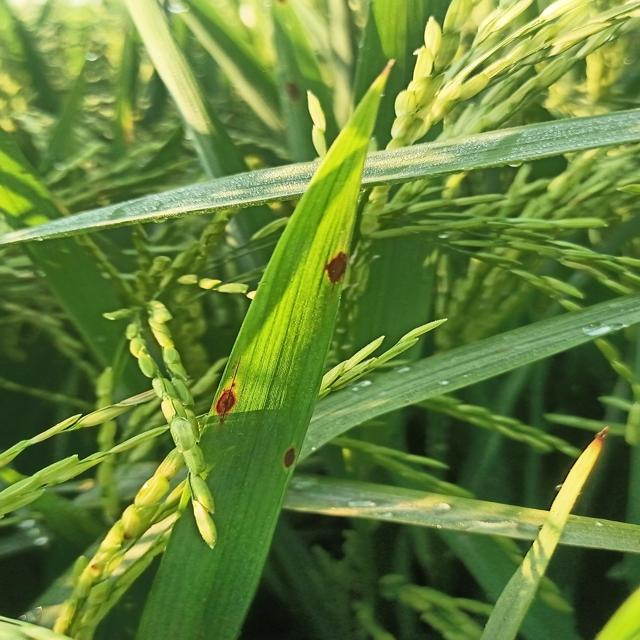insects: (313, 233, 355, 294), (207, 372, 247, 428), (279, 431, 304, 483), (593, 426, 610, 446)
